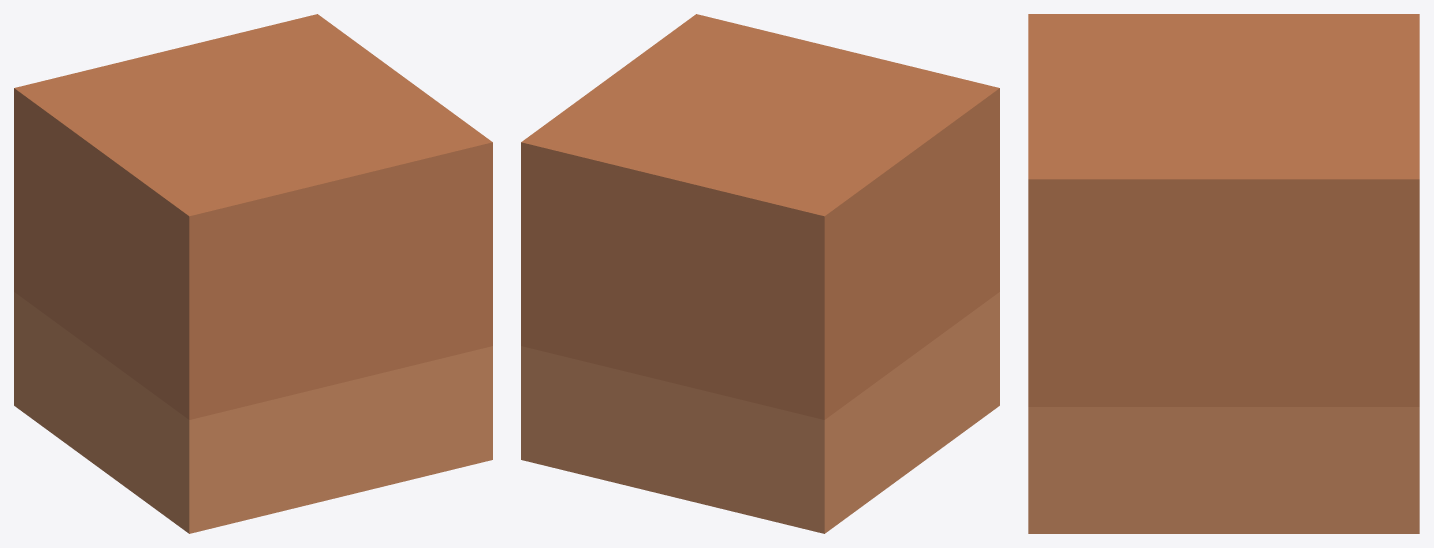
File: 01_normal_middle_center.glb
3 views of the same model, side by side, from view 1: azimuth 30°, elevation 25°; view 2: azimuth 150°, elevation 25°; view 3: azimuth 270°, elevation 25° (orthographic). The views are drawn at different scales.
Visible parts, largest first — view 1: 01_normal_middle_center; view 2: 01_normal_middle_center; view 3: 01_normal_middle_center.
Boxes of the visible parts, left/top/right/bottom form: 01_normal_middle_center: left=14, top=14, right=492, bottom=533; 01_normal_middle_center: left=521, top=14, right=999, bottom=533; 01_normal_middle_center: left=1028, top=14, right=1419, bottom=533.
Size of the model in its own units: 0.5 by 0.5 by 0.5.
